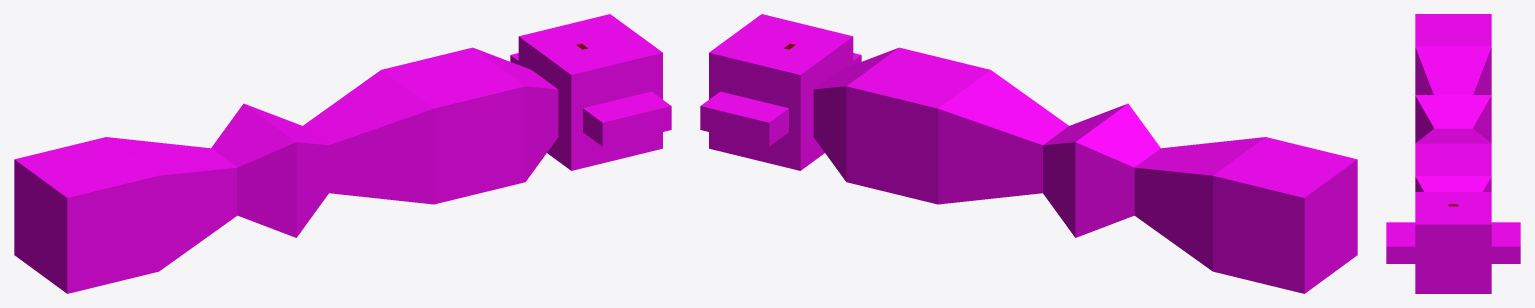
File: totemtree5.obj
3 views of the same model, side by side, from view 1: azimuth 30°, elevation 25°; view 2: azimuth 150°, elevation 25°; view 3: azimuth 270°, elevation 25° (orthographic). The views are drawn at different scales.
Visible parts, largest first — view 1: totemtree5_back; view 2: totemtree5_back; view 3: totemtree5_back.
Boxes of the visible parts, x1,y1,x2,y2 form: totemtree5_back: (14, 14, 671, 293); totemtree5_back: (700, 14, 1357, 293); totemtree5_back: (1386, 14, 1520, 293).
Size of the model in its own units: 2.08 by 0.32 by 0.56.
